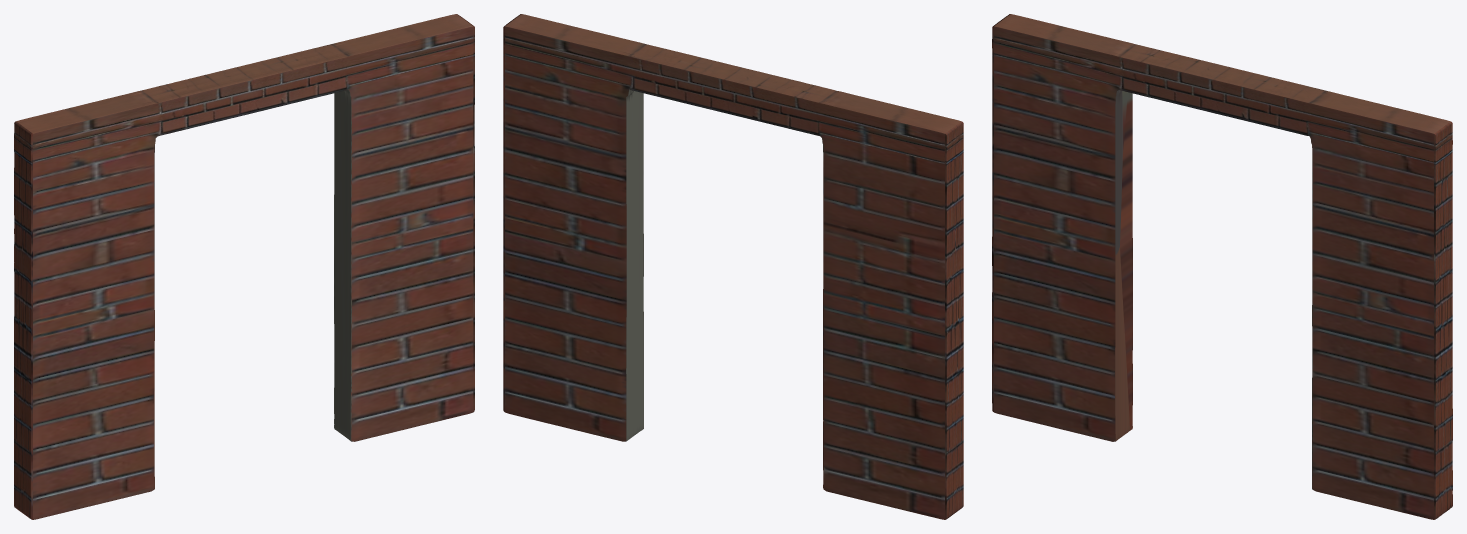
Rendered from Wall-Brick-2.glb.
The picture shows the model from 3 angles, left to right: view 1: azimuth 30°, elevation 25°; view 2: azimuth 150°, elevation 25°; view 3: azimuth 330°, elevation 25°; orthographic projection.
Visible parts, largest first — view 1: tmp234rxs8k.ply; view 2: tmp234rxs8k.ply; view 3: tmp234rxs8k.ply.
Part boxes in pixels (x1,y1,x2,y2): tmp234rxs8k.ply: (14,14,474,519); tmp234rxs8k.ply: (503,14,963,519); tmp234rxs8k.ply: (992,14,1452,519).
Bounding box in the file's own units: 3 × 2.5 × 0.2.
1 material, 1 textured.
